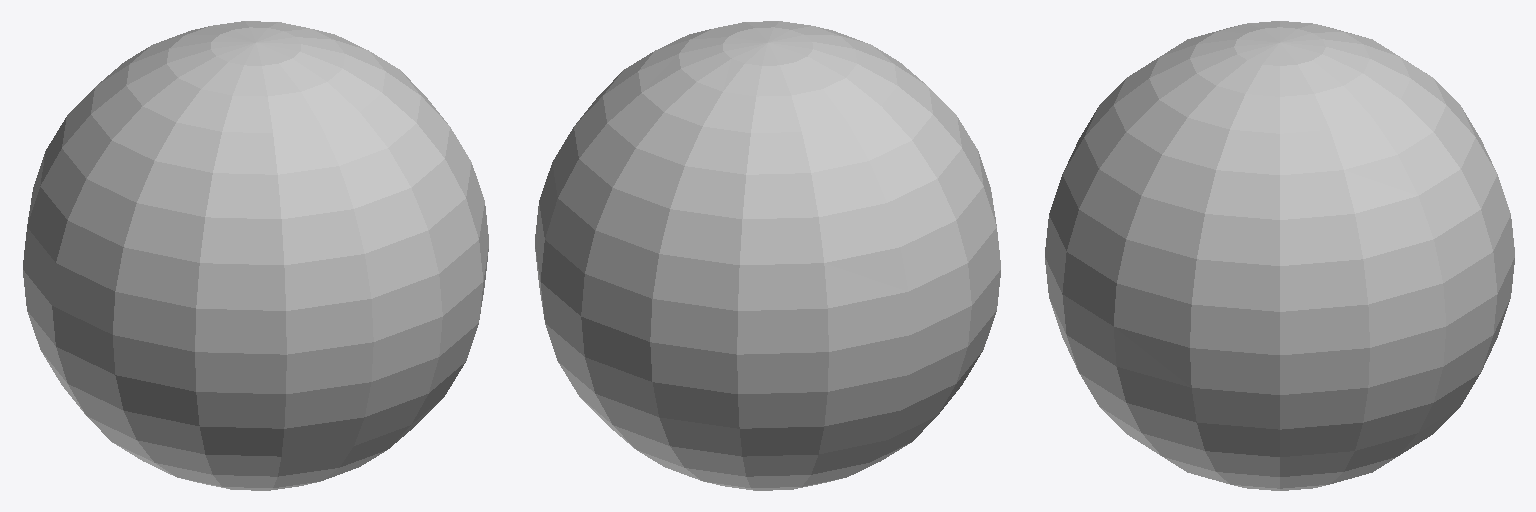
The model's file is Pelota.obj.
3 renders of one model, left to right at view 1: azimuth 30°, elevation 25°; view 2: azimuth 150°, elevation 25°; view 3: azimuth 270°, elevation 25°, orthographic.
Visible parts, largest first — view 1: Pelota2:pSphere1; view 2: Pelota2:pSphere1; view 3: Pelota2:pSphere1.
Part boxes in pixels (x1,y1,x2,y2): Pelota2:pSphere1: (23, 21, 488, 490); Pelota2:pSphere1: (535, 21, 1000, 490); Pelota2:pSphere1: (1045, 21, 1514, 490).
Bounding box in the file's own units: 2 × 2 × 2.